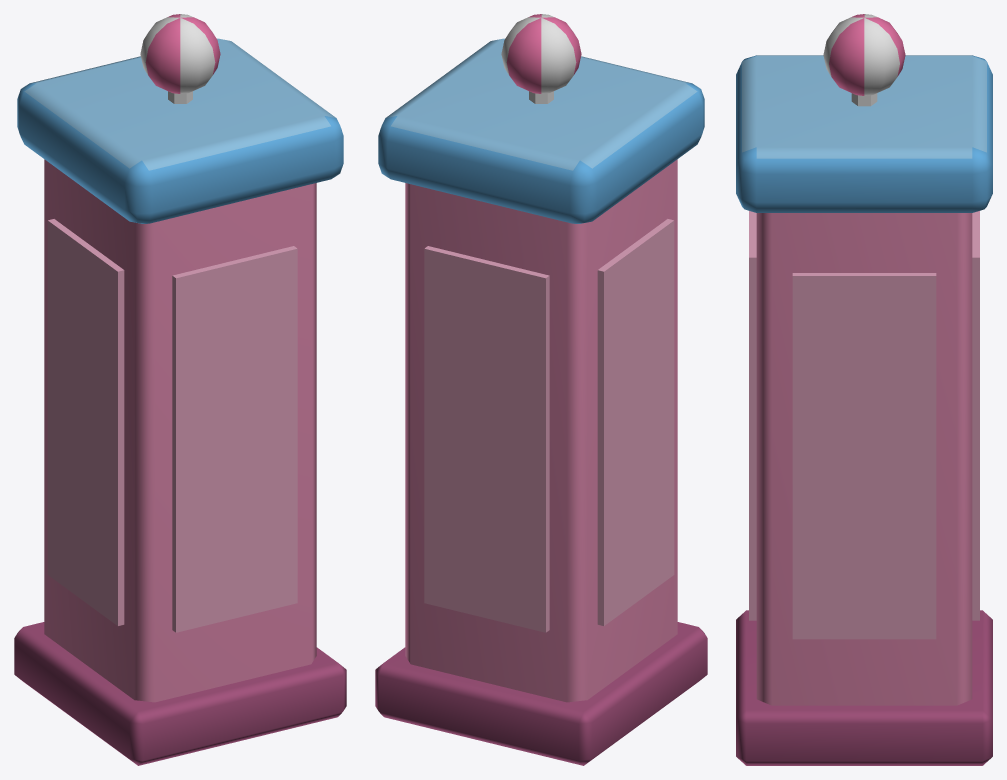
File: block-post.glb
The picture shows the model from 3 angles, left to right: view 1: azimuth 30°, elevation 25°; view 2: azimuth 150°, elevation 25°; view 3: azimuth 270°, elevation 25°; orthographic projection. The views are drawn at different scales.
Visible parts, largest first — view 1: block-post; view 2: block-post; view 3: block-post.
Part boxes in pixels (box(x1,y1,x2,y2)): block-post: box(14, 14, 346, 765); block-post: box(375, 14, 707, 765); block-post: box(736, 14, 992, 765).
Bounding box in the file's own units: 0.5 × 1.5 × 0.5.
